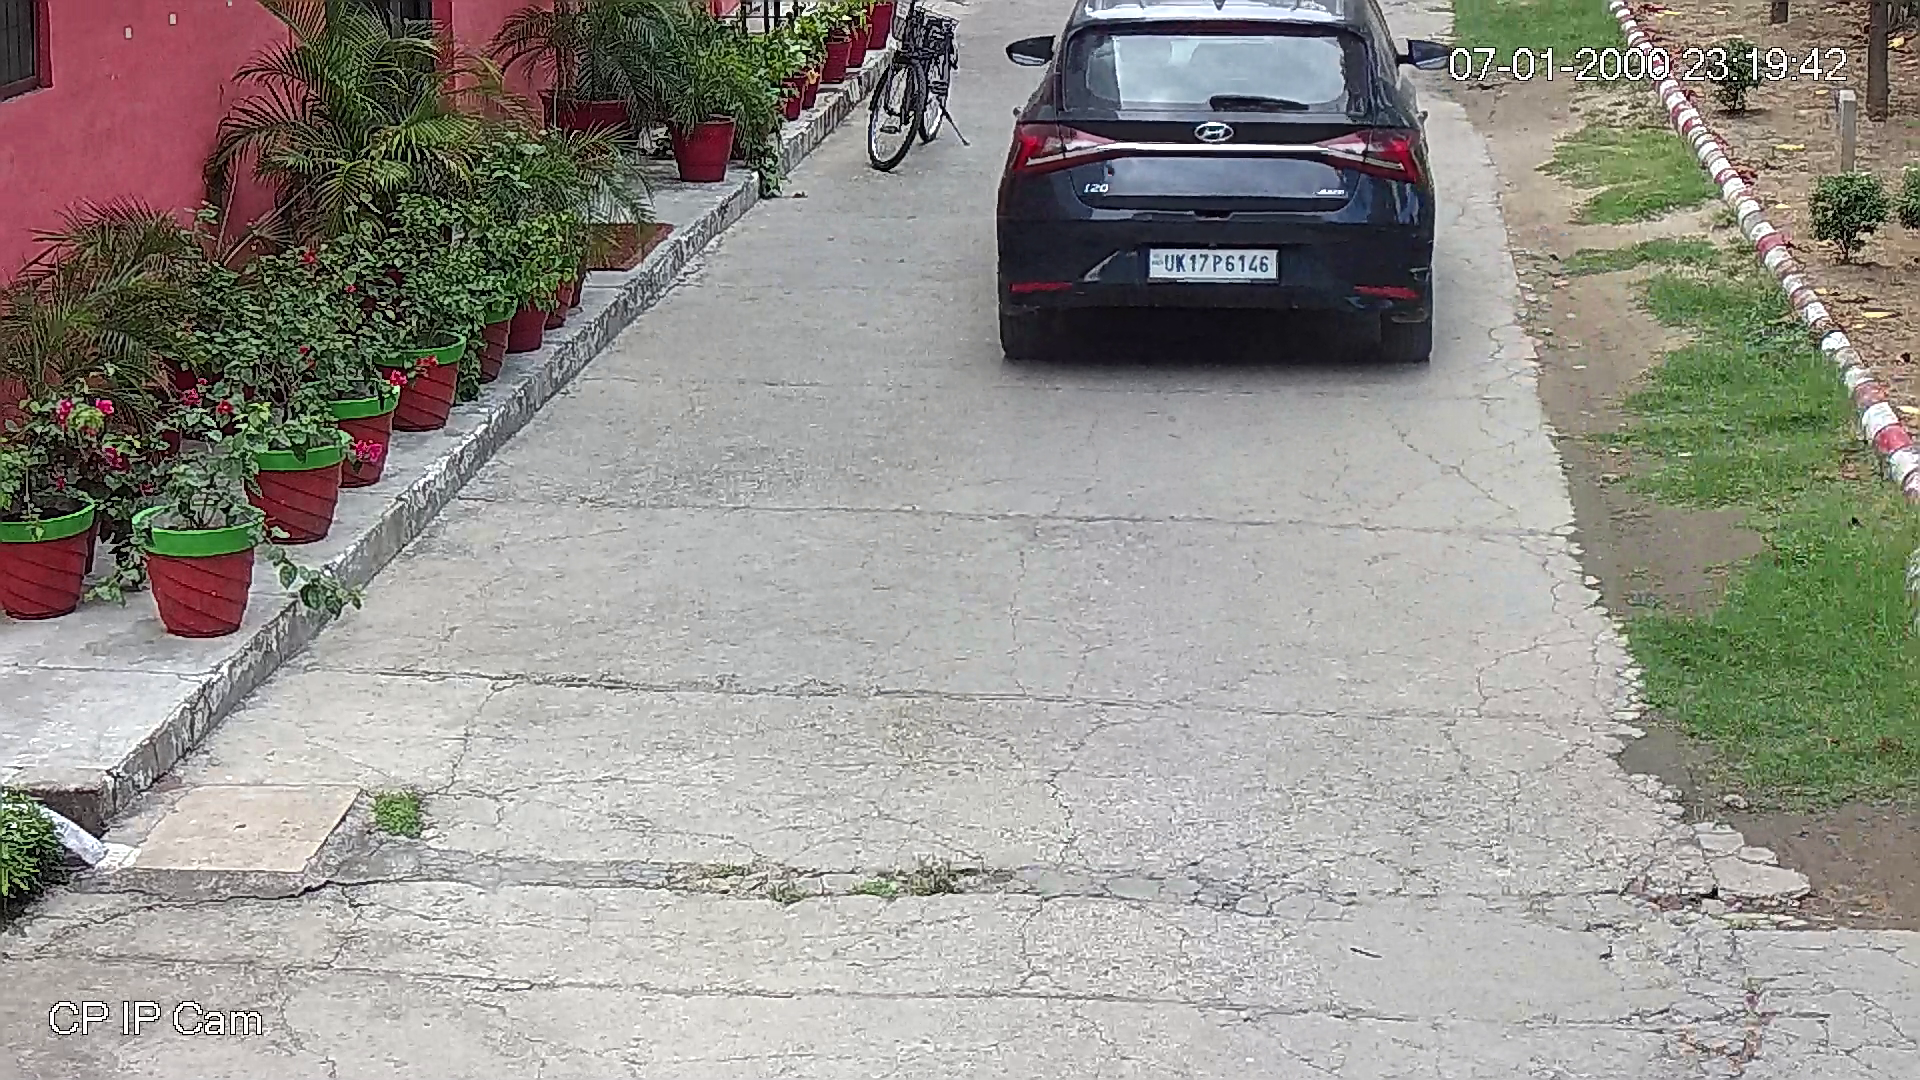plate: (1144, 243, 1283, 279)
